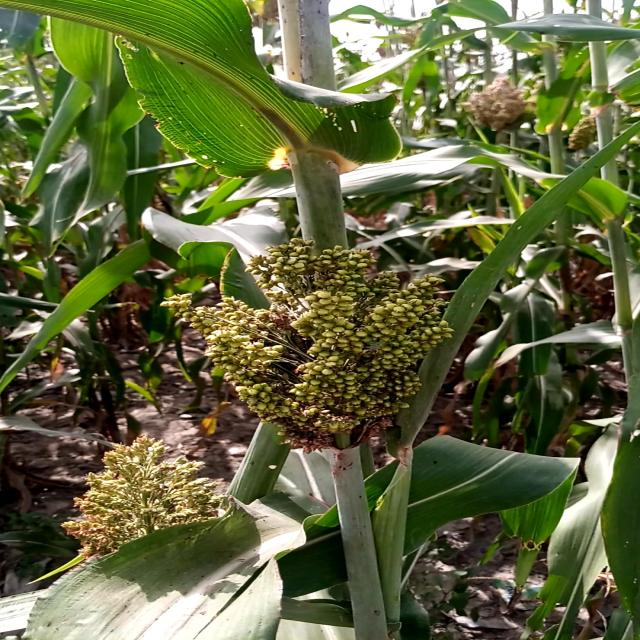UnripeSorghum: (169, 247, 471, 447), (44, 430, 249, 567)
